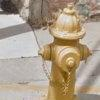Hydrant: (36, 2, 92, 93)
